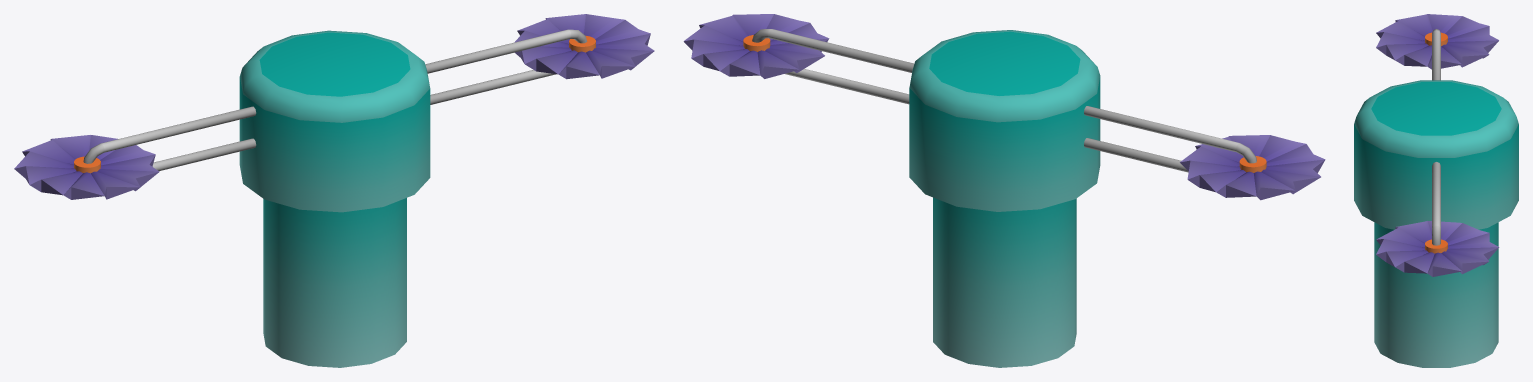
The model's file is obstacle-04.fbx.
3 renders of one model, left to right at view 1: azimuth 30°, elevation 25°; view 2: azimuth 150°, elevation 25°; view 3: azimuth 270°, elevation 25°, orthographic. The views are drawn at different scales.
Visible parts, largest first — view 1: obstacle-04, obstacle-04.1; view 2: obstacle-04, obstacle-04.1; view 3: obstacle-04, obstacle-04.1.
Part boxes in pixels (x1,y1,x2,y2): obstacle-04: [239, 30, 430, 367]; obstacle-04.1: [14, 14, 654, 199]; obstacle-04: [909, 30, 1100, 367]; obstacle-04.1: [683, 14, 1325, 200]; obstacle-04: [1354, 80, 1518, 367]; obstacle-04.1: [1376, 14, 1499, 276].
Size of the model in its own units: 0.7764 by 0.3256 by 0.2084.
Materials: 1 (1 with a texture image).
